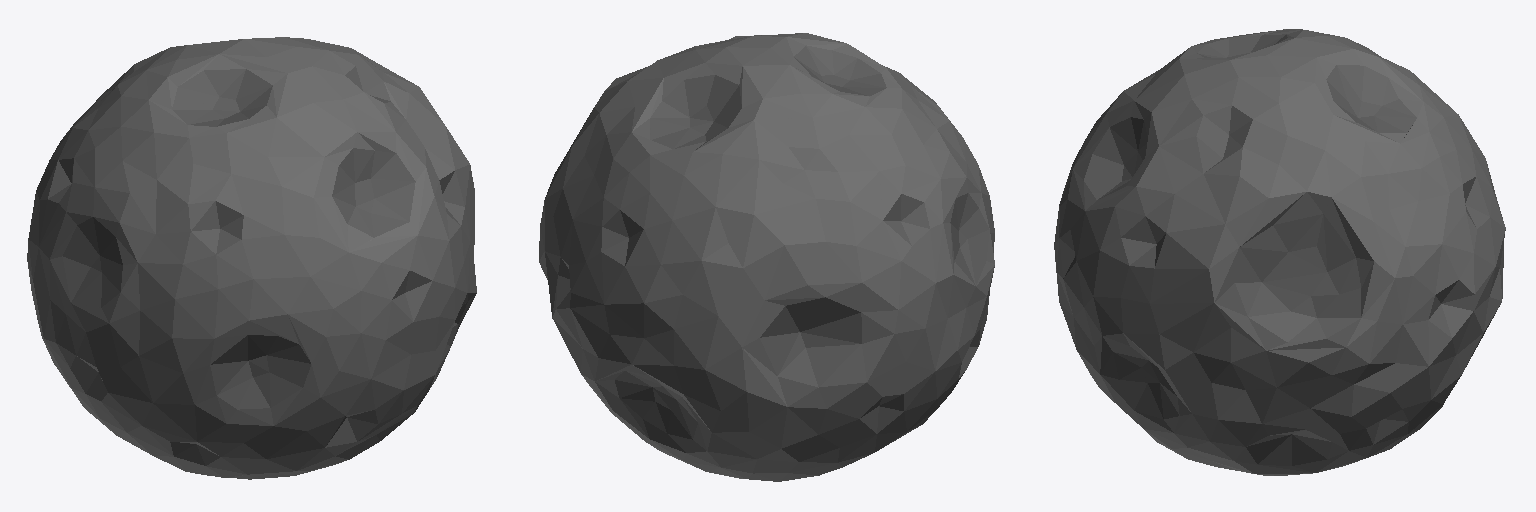
The picture shows the model from 3 angles: view 1: azimuth 30°, elevation 25°; view 2: azimuth 150°, elevation 25°; view 3: azimuth 270°, elevation 25°; orthographic projection.
Visible parts, largest first — view 1: object_2; view 2: object_2; view 3: object_2.
Boxes of the visible parts, x1=… form: object_2: x1=27, y1=37, x2=476, y2=479; object_2: x1=539, y1=33, x2=994, y2=481; object_2: x1=1054, y1=29, x2=1505, y2=475.
Size of the model in its own units: 33.47 by 33.15 by 33.32.
2 materials, 1 textured.